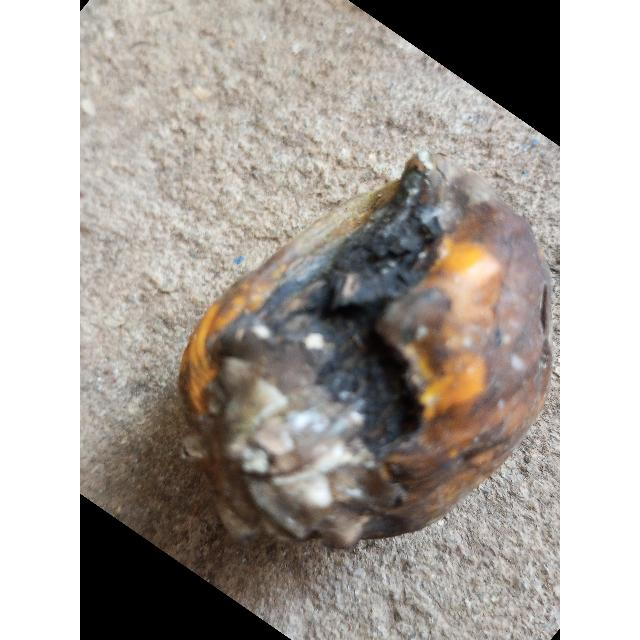damaged: (176, 155, 551, 555)
